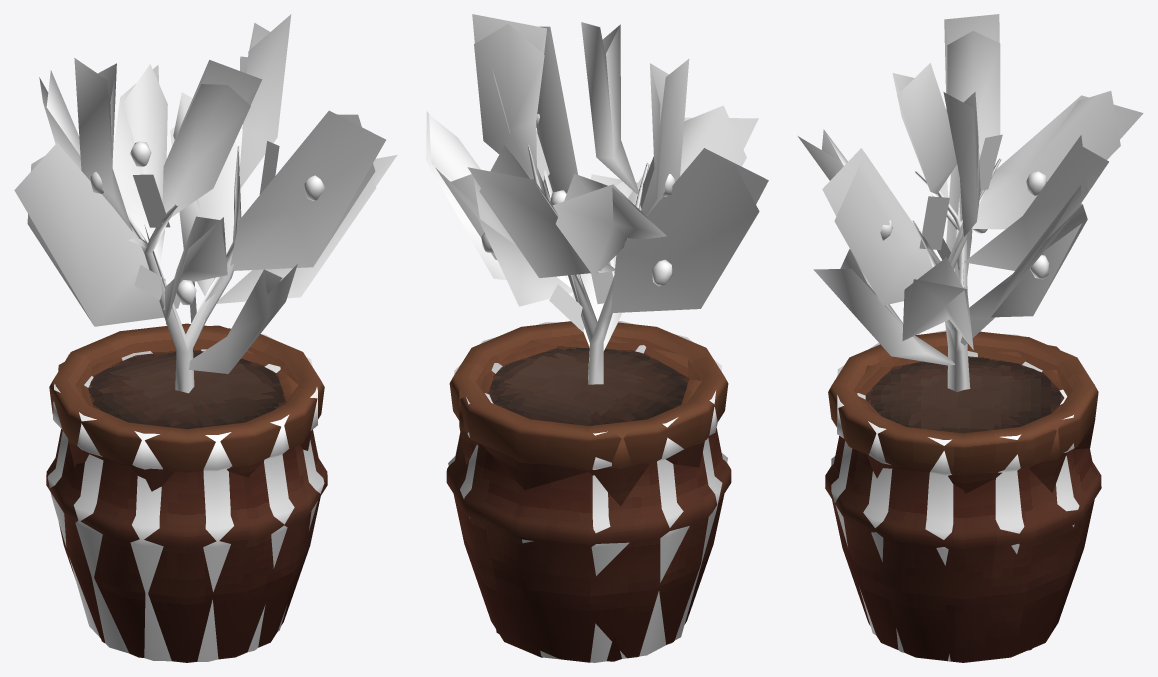
Rendered from objects_un_pot_olive01.gltf.
3 views of the same model, side by side, from view 1: azimuth 30°, elevation 25°; view 2: azimuth 150°, elevation 25°; view 3: azimuth 270°, elevation 25° (orthographic). The views are drawn at different scales.
Visible parts, largest first — view 1: um_objects_un_pot_olive01_model_lod0Shape:objects_un_pot_oli (×2), um_objects_un_pot_olive01_model_lod0Shape:plants_olive01_01, um_objects_un_pot_olive01_model_lod2Shape:plants_olive01_01, um_objects_un_pot_olive01_model_lod1Shape:plants_olive01_01, um_objects_un_pot_olive01_model_lod1Shape:objects_un_pot_oli, um_objects_un_pot_olive01_model_lod2Shape:objects_un_pot_oli; view 2: um_objects_un_pot_olive01_model_lod0Shape:objects_un_pot_oli (×2), um_objects_un_pot_olive01_model_lod0Shape:plants_olive01_01, um_objects_un_pot_olive01_model_lod1Shape:plants_olive01_01, um_objects_un_pot_olive01_model_lod2Shape:objects_un_pot_oli, um_objects_un_pot_olive01_model_lod2Shape:plants_olive01_01, um_objects_un_pot_olive01_model_lod1Shape:objects_un_pot_oli; view 3: um_objects_un_pot_olive01_model_lod0Shape:objects_un_pot_oli (×2), um_objects_un_pot_olive01_model_lod0Shape:plants_olive01_01, um_objects_un_pot_olive01_model_lod2Shape:plants_olive01_01, um_objects_un_pot_olive01_model_lod1Shape:plants_olive01_01, um_objects_un_pot_olive01_model_lod2Shape:objects_un_pot_oli, um_objects_un_pot_olive01_model_lod1Shape:objects_un_pot_oli.
Part boxes in pixels (x1,y1,x2,y2): um_objects_un_pot_olive01_model_lod0Shape:objects_un_pot_oli (×2): (46, 323, 327, 662); um_objects_un_pot_olive01_model_lod0Shape:plants_olive01_01: (27, 23, 376, 393); um_objects_un_pot_olive01_model_lod2Shape:plants_olive01_01: (14, 14, 291, 343); um_objects_un_pot_olive01_model_lod1Shape:plants_olive01_01: (39, 60, 397, 371); um_objects_un_pot_olive01_model_lod1Shape:objects_un_pot_oli: (90, 351, 285, 427); um_objects_un_pot_olive01_model_lod2Shape:objects_un_pot_oli: (58, 325, 311, 641); um_objects_un_pot_olive01_model_lod0Shape:objects_un_pot_oli (×2): (446, 321, 731, 662); um_objects_un_pot_olive01_model_lod0Shape:plants_olive01_01: (429, 24, 759, 384); um_objects_un_pot_olive01_model_lod1Shape:plants_olive01_01: (426, 14, 768, 343); um_objects_un_pot_olive01_model_lod2Shape:objects_un_pot_oli: (459, 334, 704, 661); um_objects_un_pot_olive01_model_lod2Shape:plants_olive01_01: (548, 22, 689, 335); um_objects_un_pot_olive01_model_lod1Shape:objects_un_pot_oli: (491, 347, 688, 425); um_objects_un_pot_olive01_model_lod0Shape:objects_un_pot_oli (×2): (825, 330, 1101, 662); um_objects_un_pot_olive01_model_lod0Shape:plants_olive01_01: (822, 31, 1120, 391); um_objects_un_pot_olive01_model_lod2Shape:plants_olive01_01: (813, 63, 976, 365); um_objects_un_pot_olive01_model_lod1Shape:plants_olive01_01: (798, 14, 1143, 352); um_objects_un_pot_olive01_model_lod2Shape:objects_un_pot_oli: (858, 345, 1095, 650); um_objects_un_pot_olive01_model_lod1Shape:objects_un_pot_oli: (870, 359, 1045, 432).
Bounding box in the file's own units: 0.7977 × 1.22 × 0.6757.
3 materials, 1 textured.
